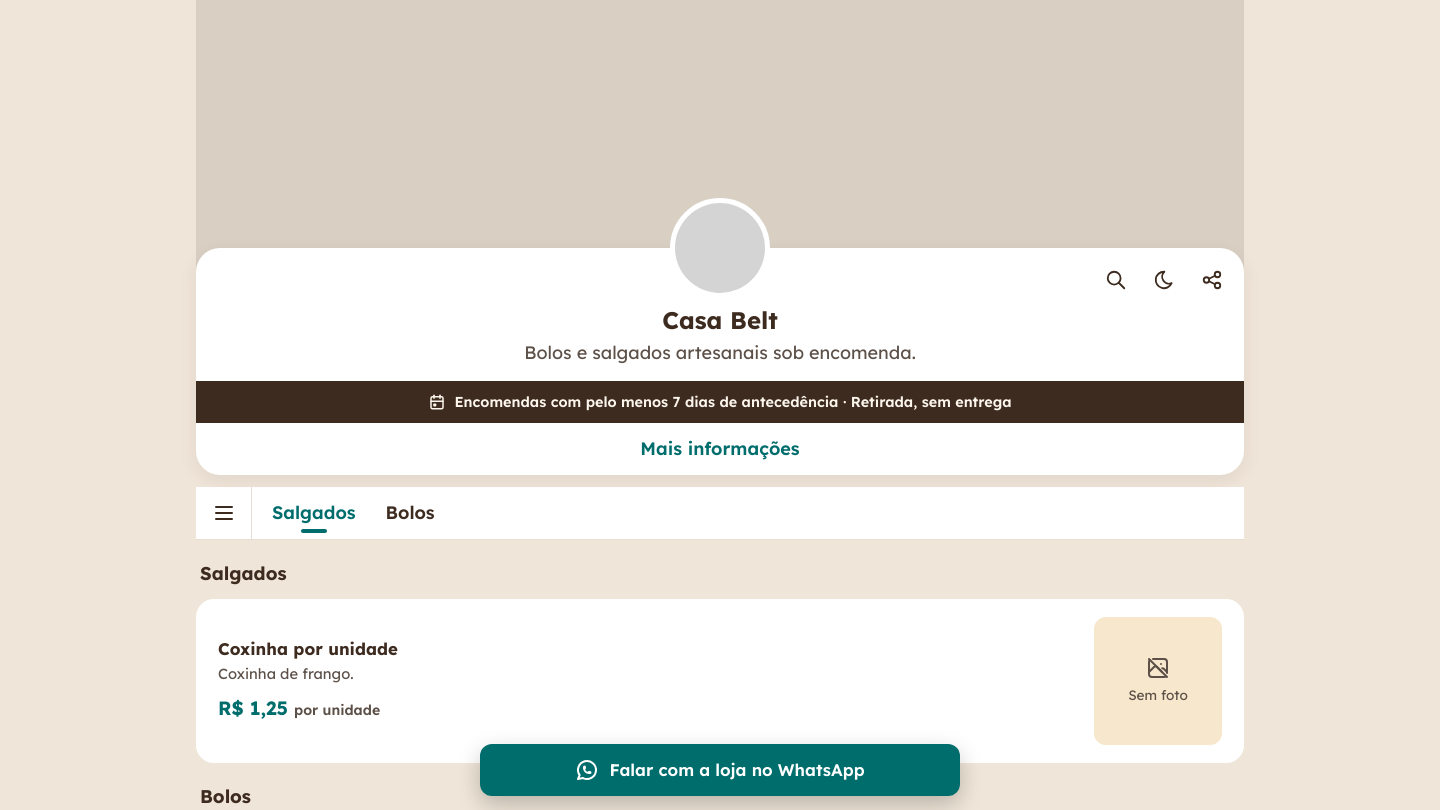
Test: PaginaCardapio (ZAP-105) › "Mais informações" mostra as regras da encomenda, o contato e o mapa da retirada
Click the link "Mais informações" at (720, 449), box [640, 437, 800, 460]
(page scrolled)
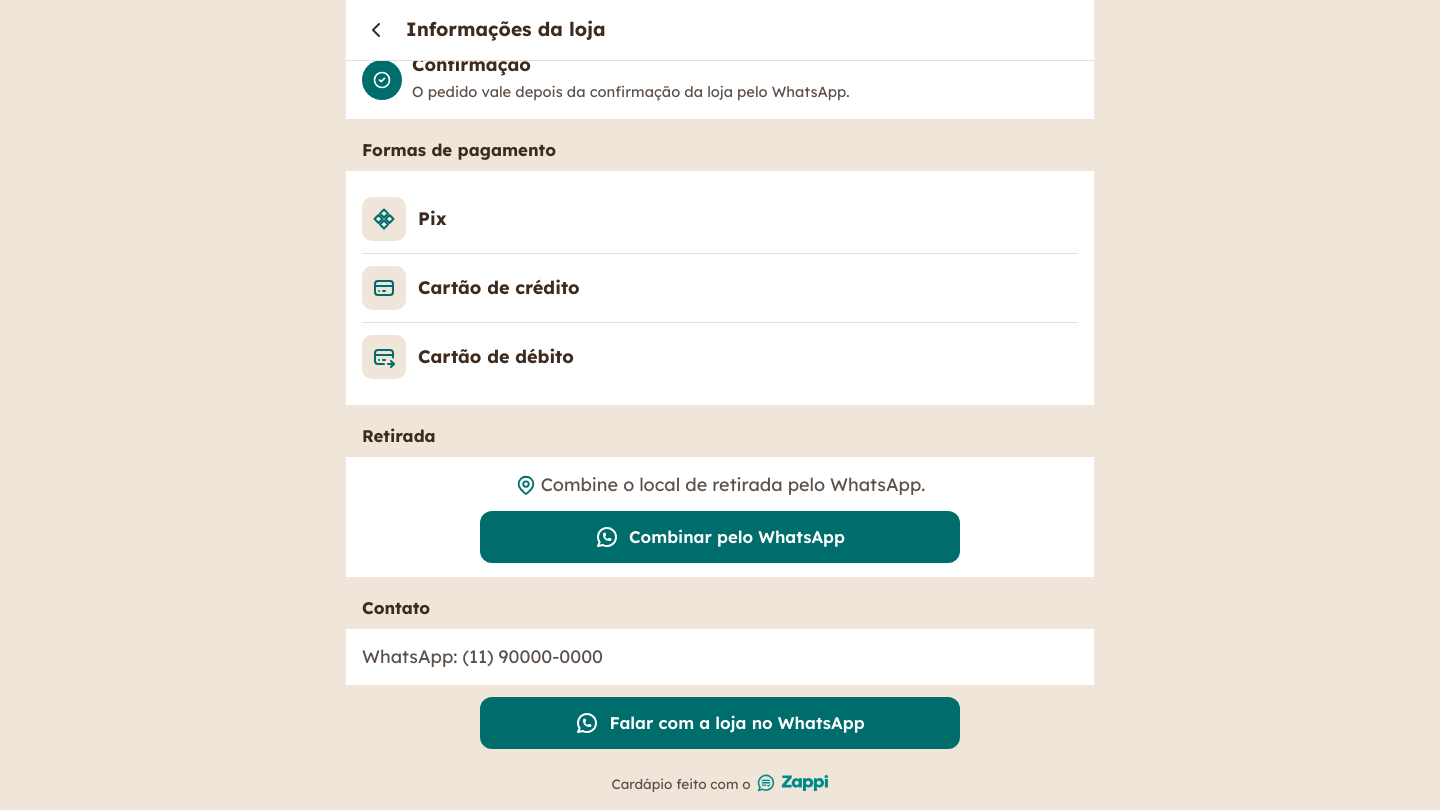
Check: the heading "Informações da loja" is shown, box [406, 15, 606, 45]
Check: the text "Na retirada." is shown, box [412, 20, 498, 39]
Check: the text "WhatsApp: (11) 90000-0000" is shown, box [362, 645, 603, 668]
